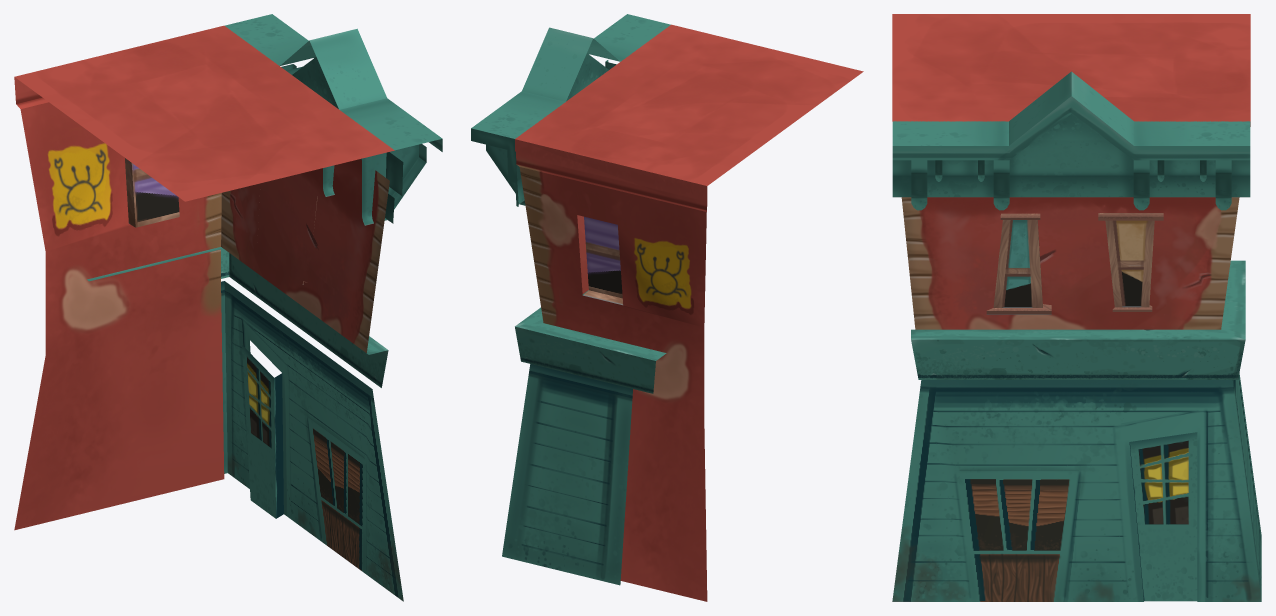
File: h_building.fbx
The picture shows the model from 3 angles, left to right: view 1: azimuth 30°, elevation 25°; view 2: azimuth 150°, elevation 25°; view 3: azimuth 270°, elevation 25°; orthographic projection. The views are drawn at different scales.
Parts seen in each view (by area): view 1: Box019; view 2: Box019; view 3: Box019.
Boxes of the visible parts, box(x1,y1,x2,y2) form: Box019: box(14, 14, 442, 601); Box019: box(471, 14, 863, 601); Box019: box(892, 14, 1261, 601).
Size of the model in its own units: 85.55 by 160 by 101.
